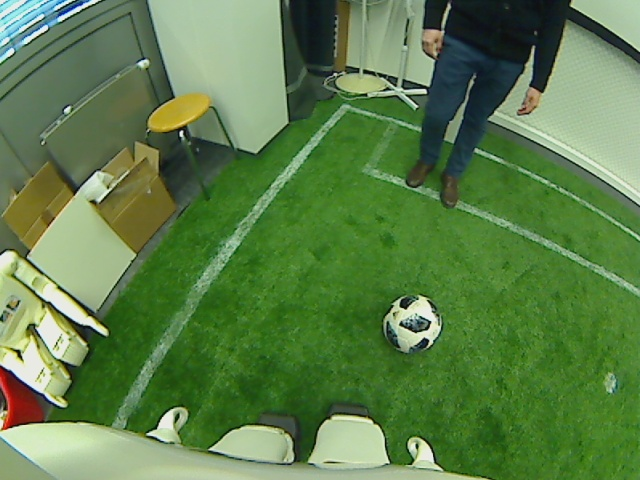ball: (380, 293, 442, 356)
